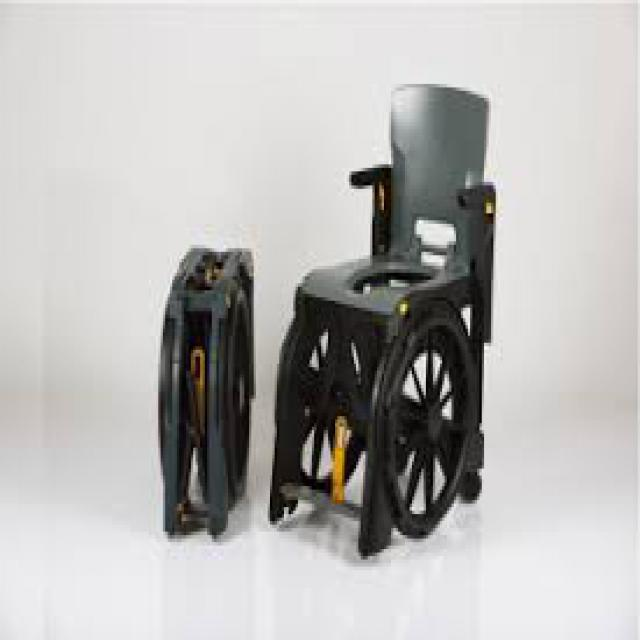wheelchairs: (275, 90, 487, 540)
